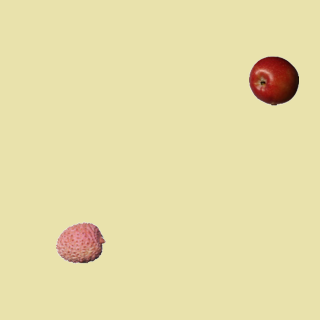Apple Braeburn: (248, 55, 298, 105)
Lychee: (55, 217, 105, 267)
